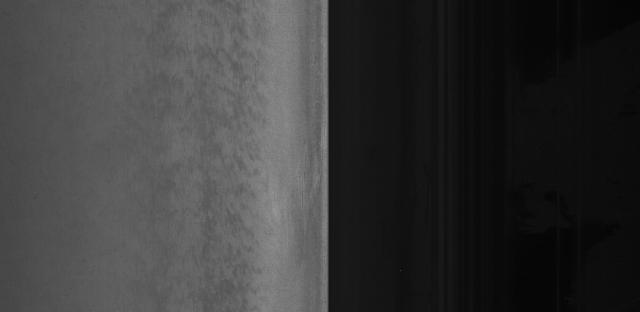silk_spot: (196, 34, 279, 274)
